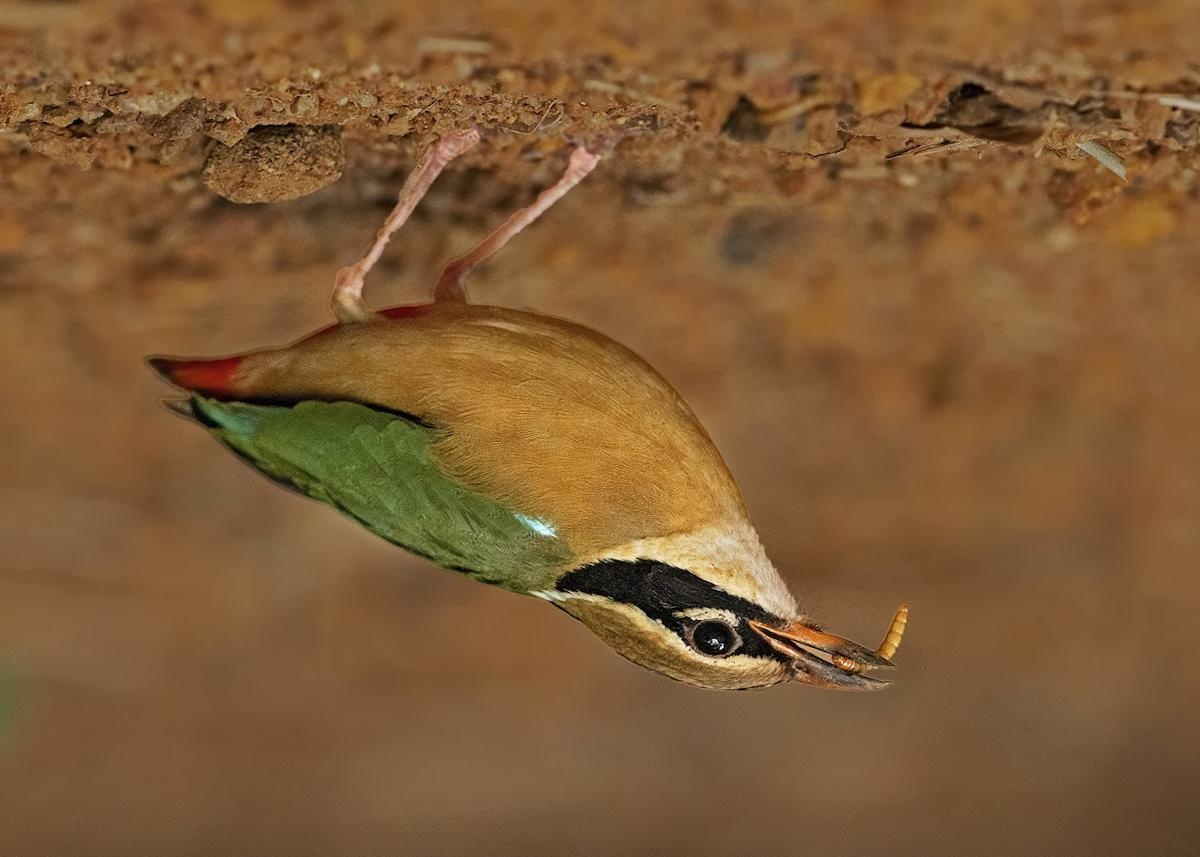pitta: (156, 233, 933, 695)
